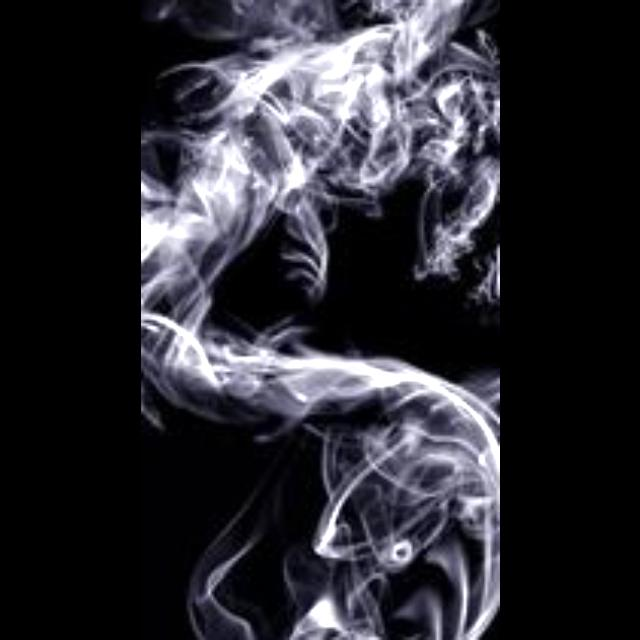smoke: (140, 0, 500, 640)
